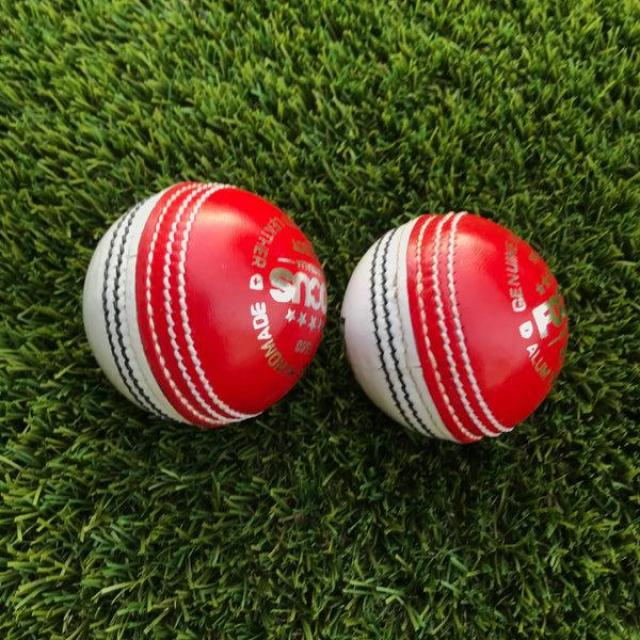ball: (327, 184, 573, 450), (84, 184, 326, 426)
